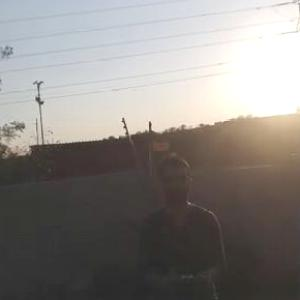follow: (134, 149, 236, 299)
